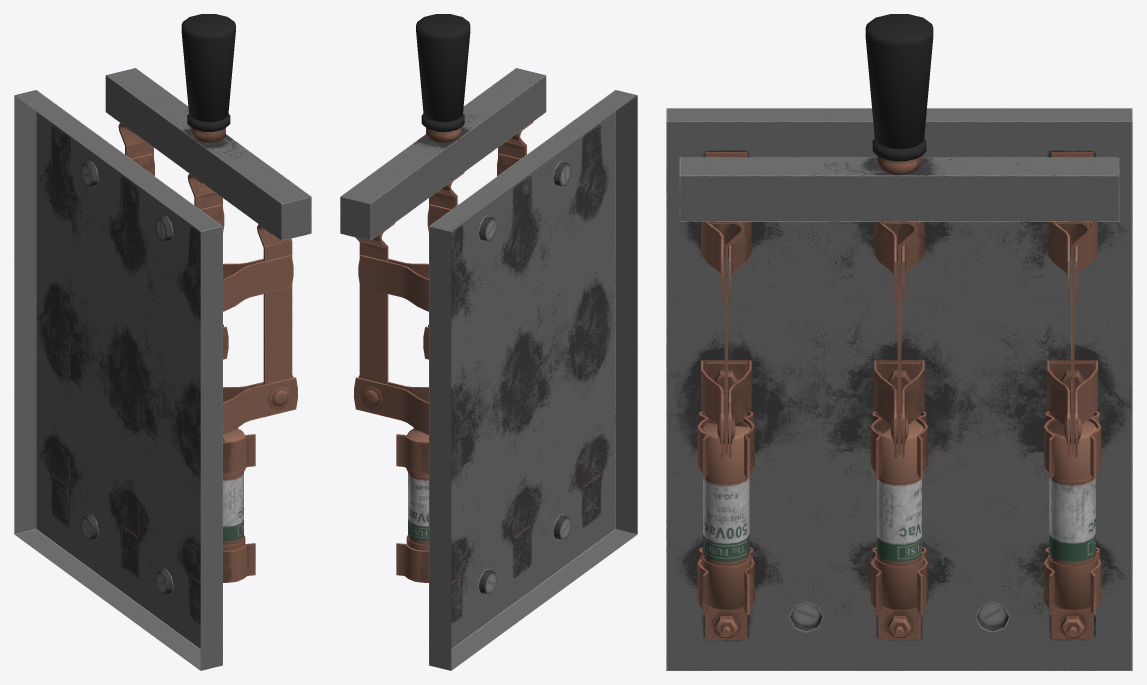
File: Lever04.glb
3 renders of one model, left to right at view 1: azimuth 30°, elevation 25°; view 2: azimuth 150°, elevation 25°; view 3: azimuth 270°, elevation 25°, orthographic. The views are drawn at different scales.
Visible parts, largest first — view 1: Plane, Plane_004, Circle_001; view 2: Plane, Plane_004, Circle_003; view 3: Plane, Plane_004, Circle_003, Circle_001, Circle_002.
Part boxes in pixels (bbox=[...]): Plane: bbox=[14, 90, 297, 670]; Plane_004: bbox=[105, 14, 311, 384]; Circle_001: bbox=[223, 428, 245, 550]; Plane: bbox=[354, 90, 637, 670]; Plane_004: bbox=[340, 14, 546, 384]; Circle_003: bbox=[406, 428, 428, 550]; Plane: bbox=[666, 108, 1132, 670]; Plane_004: bbox=[679, 14, 1119, 454]; Circle_003: bbox=[1047, 420, 1097, 610]; Circle_001: bbox=[701, 420, 751, 610]; Circle_002: bbox=[875, 420, 923, 610].
Bounding box in the file's own units: 0.1981 × 0.8413 × 0.5128.
Materials: 1 (1 with a texture image).
